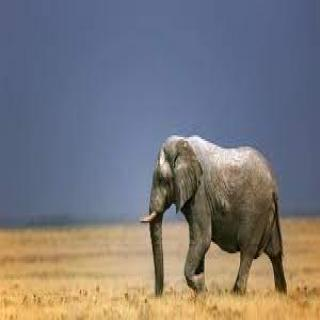Elephant: (139, 120, 290, 309)
